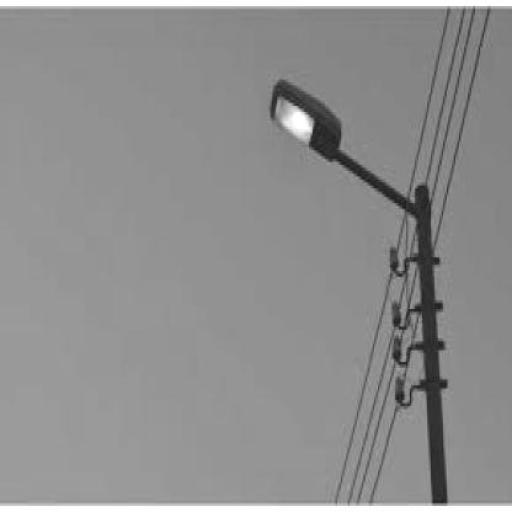street light: (268, 76, 450, 509)
